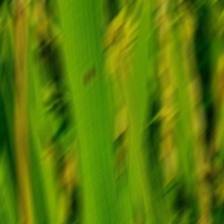Bacterial_Leaf_Blight: (80, 62, 97, 86)
